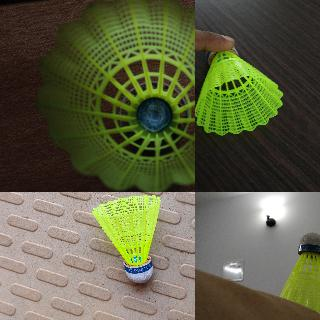shuttlecock: (37, 0, 194, 191), (195, 46, 283, 135), (91, 194, 160, 282), (278, 232, 319, 319)
